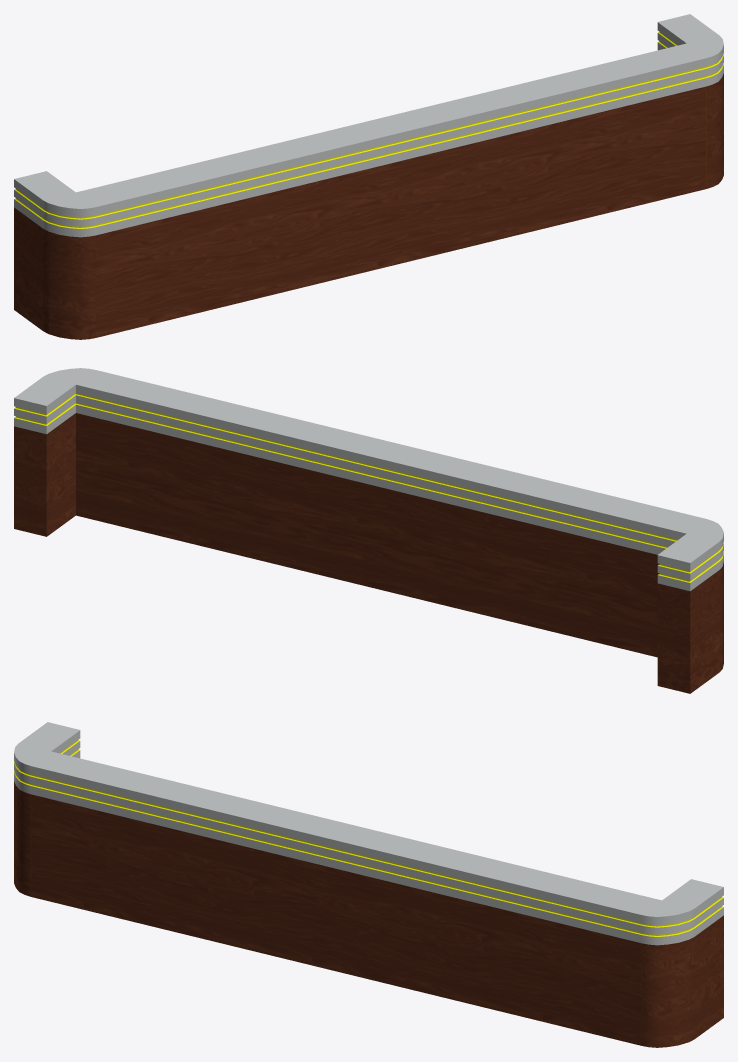
File: reception_table.fbx
3 views of the same model, one above another, from view 1: azimuth 30°, elevation 25°; view 2: azimuth 150°, elevation 25°; view 3: azimuth 330°, elevation 25° (orthographic).
Parts seen in each view (by area): view 1: tablecounter; view 2: tablecounter; view 3: tablecounter.
Part boxes in pixels (<box>): tablecounter: <box>14,14,723,339</box>; tablecounter: <box>14,368,723,693</box>; tablecounter: <box>14,722,723,1047</box>.
Bounding box in the file's own units: 624 × 115 × 78.8.
2 materials, 1 textured.
